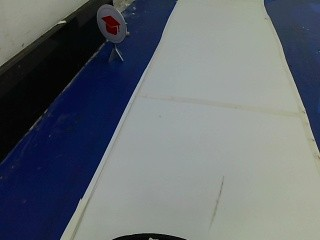school: (95, 3, 126, 44)
